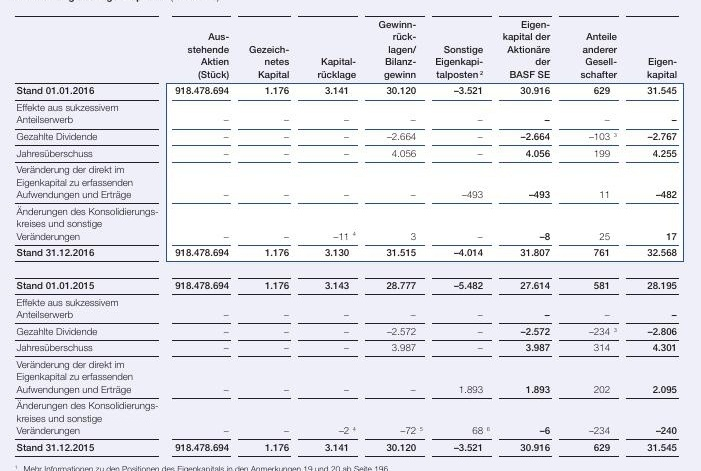table: (0, 0, 701, 471)
